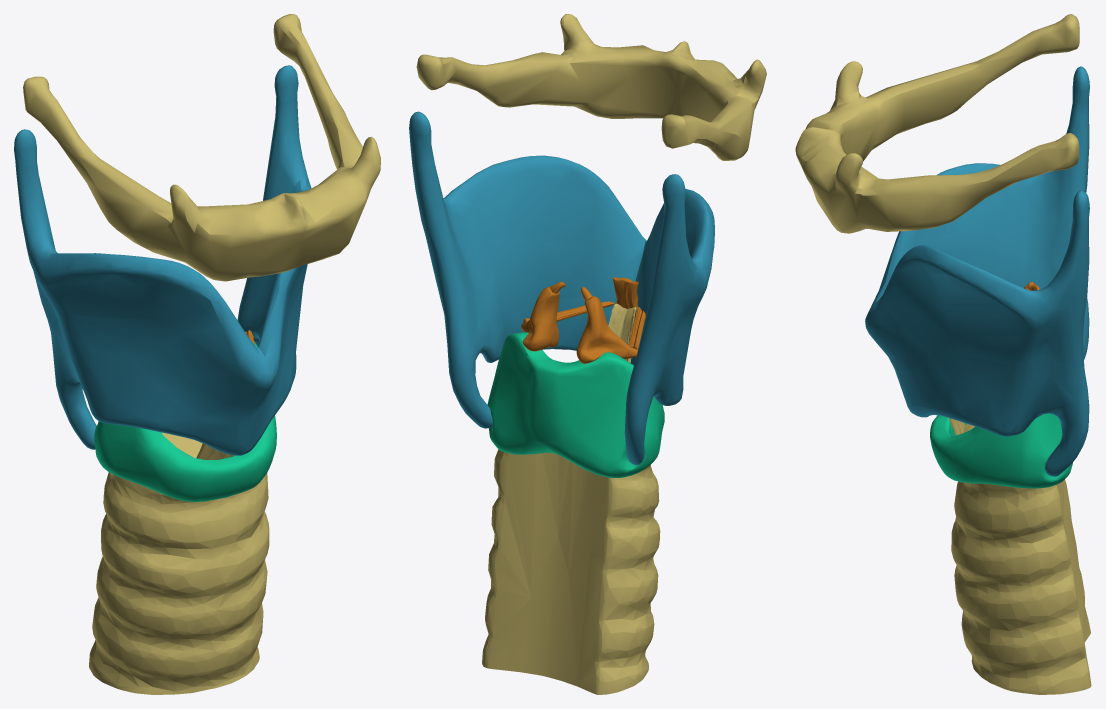
File: fbx_frame_0003.obj
3 views of the same model, side by side, from view 1: azimuth 30°, elevation 25°; view 2: azimuth 150°, elevation 25°; view 3: azimuth 270°, elevation 25° (orthographic). The views are drawn at different scales.
Visible parts, largest first — view 1: maya2sketchfab.010, maya2sketchfab.001, maya2sketchfab.011, maya2sketchfab.005; view 2: maya2sketchfab.010, maya2sketchfab.001, maya2sketchfab.011, maya2sketchfab.005, maya2sketchfab.004, maya2sketchfab.006, maya2sketchfab.007; view 3: maya2sketchfab.010, maya2sketchfab.001, maya2sketchfab.011, maya2sketchfab.005.
Part boxes in pixels (x1,y1,x2,y2): maya2sketchfab.010: (14, 65, 311, 455); maya2sketchfab.001: (89, 432, 269, 694); maya2sketchfab.011: (23, 14, 380, 281); maya2sketchfab.005: (94, 341, 276, 501); maya2sketchfab.010: (409, 111, 714, 465); maya2sketchfab.001: (482, 303, 660, 694); maya2sketchfab.011: (416, 14, 766, 160); maya2sketchfab.005: (487, 332, 664, 477); maya2sketchfab.004: (576, 287, 637, 363); maya2sketchfab.006: (521, 281, 565, 351); maya2sketchfab.007: (613, 277, 638, 309); maya2sketchfab.010: (865, 66, 1089, 476); maya2sketchfab.001: (948, 418, 1091, 694); maya2sketchfab.011: (795, 14, 1079, 233); maya2sketchfab.005: (930, 368, 1084, 488).
Size of the model in its own units: 38.66 by 78.91 by 36.3.
